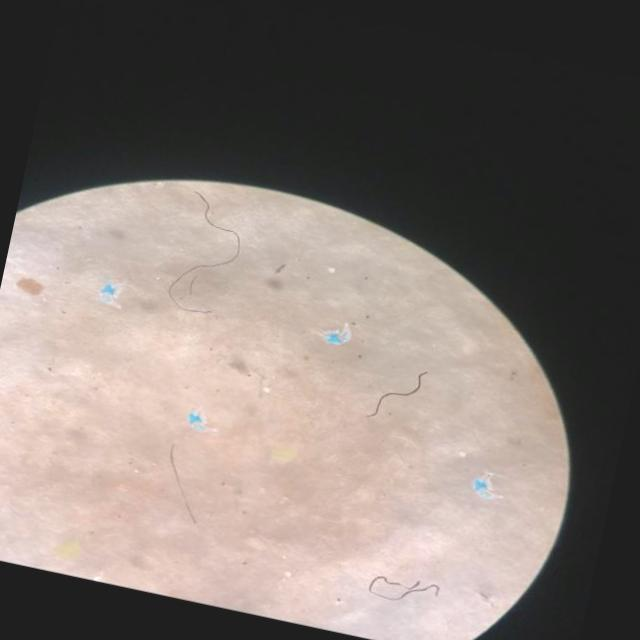fiber: (168, 191, 241, 312), (368, 371, 428, 417), (169, 443, 196, 524), (368, 575, 441, 600)
film: (168, 191, 241, 309), (100, 282, 117, 303), (318, 334, 351, 344), (192, 412, 209, 431), (473, 486, 497, 498)
fragment: (16, 276, 44, 296), (54, 540, 80, 560), (272, 444, 297, 463)
pellet: (327, 267, 335, 273), (458, 451, 466, 457), (264, 387, 269, 392)
